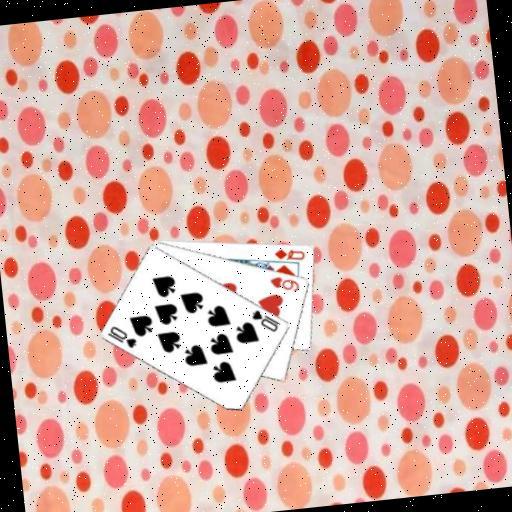10S: (248, 304, 283, 336), (104, 321, 139, 352)
6H: (267, 271, 301, 295)
QD: (271, 243, 308, 265)
